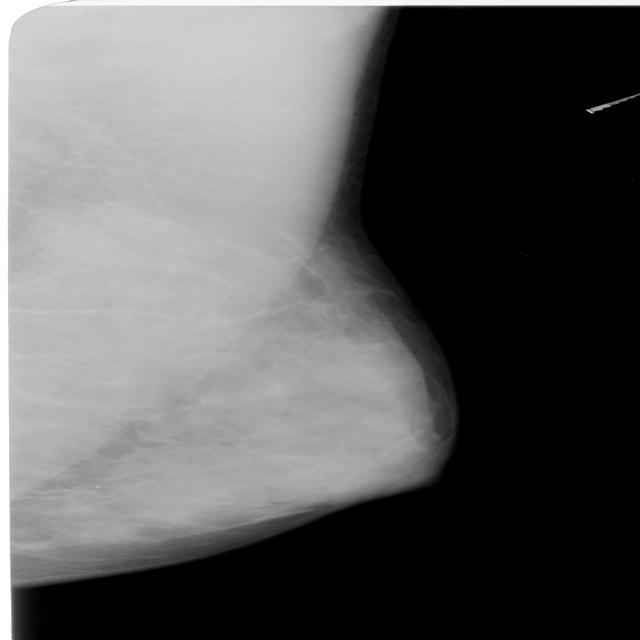normal: (0, 4, 460, 592)
